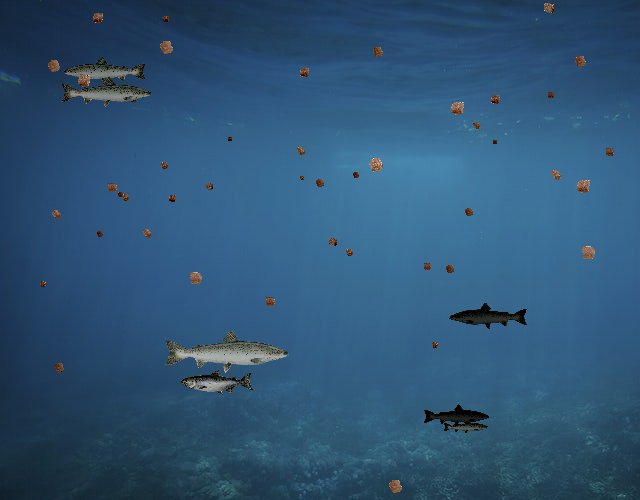Fish: (162, 328, 291, 374), (59, 75, 153, 109), (62, 55, 148, 86), (448, 301, 529, 330), (182, 370, 255, 396), (422, 404, 490, 428), (442, 418, 489, 435)
Pellet: (443, 94, 472, 123), (569, 172, 597, 200), (568, 49, 592, 73), (294, 62, 315, 83), (459, 202, 478, 221), (341, 244, 358, 261), (428, 338, 442, 352), (36, 277, 50, 291)
